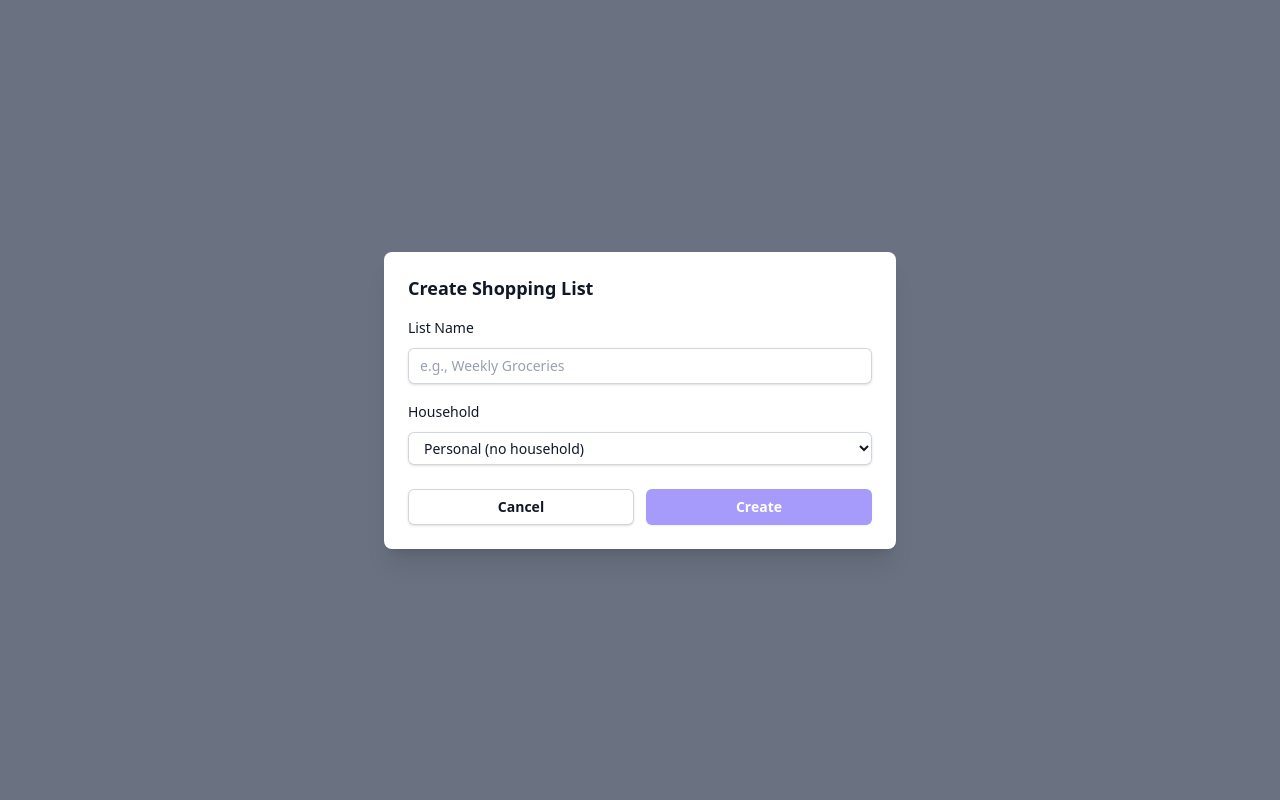
Test: CreateListModal › shows private checkbox only when household is selected
Expected: the field labelled "private" is not shown
# Select a household
Select "Family" in the dropdown labelled "Household": [640, 448] box [408, 432, 872, 464]
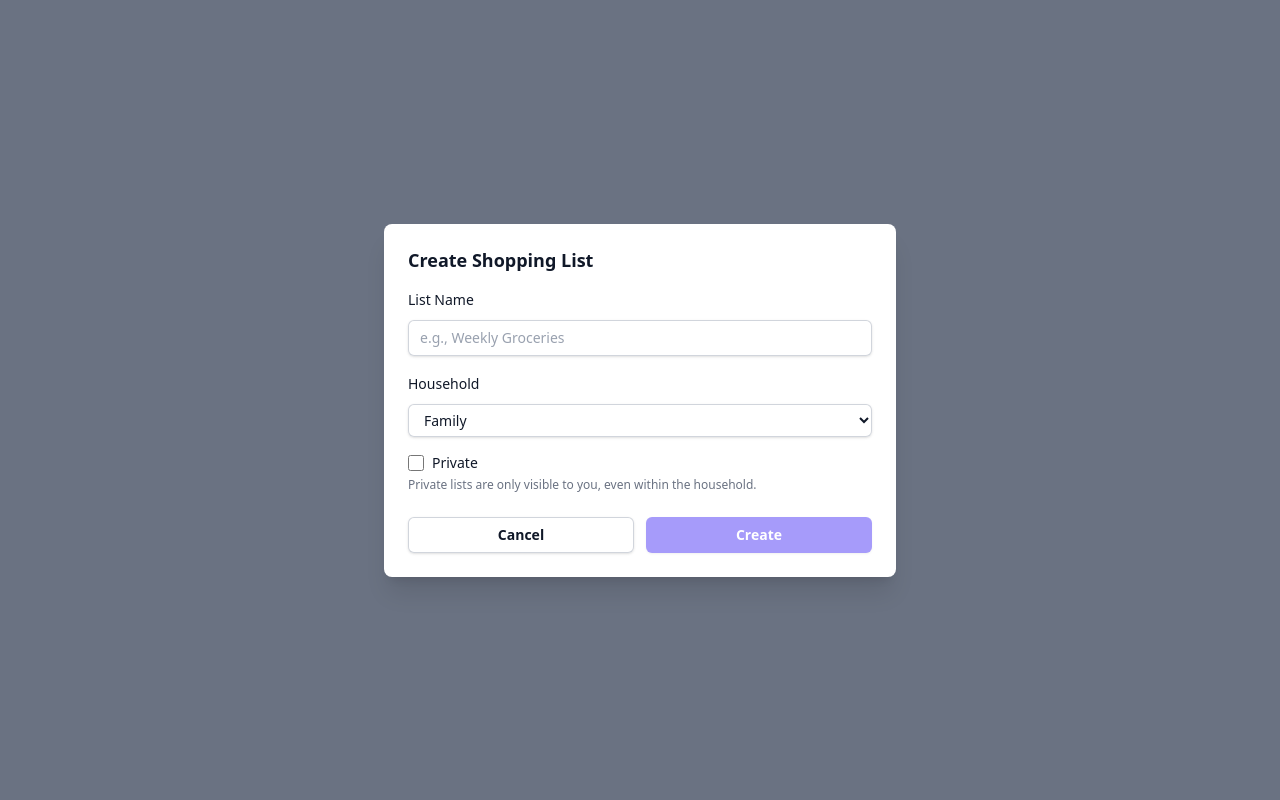
Expected: the checkbox labelled "Private" is shown, [408, 454, 424, 470]
